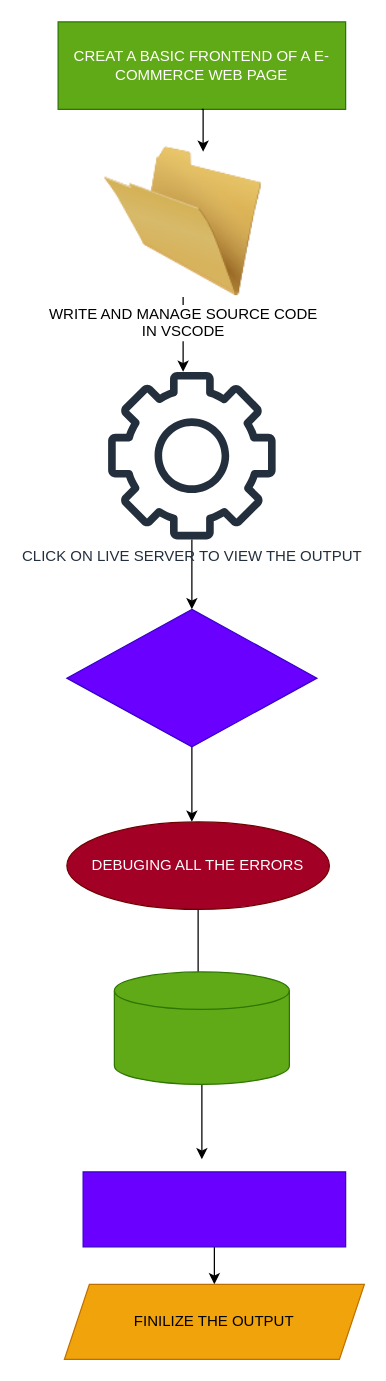
Image size: 386x1381. Some labels were removed from this diagram. Each missing label, with the centre of its shape:
CHECK FOR ANY ERRORS: the point at 191,677
UPLOAD IT TO YOUR REPO: the point at 214,1209
VIEW THE OUTPUT: the point at 201,1027
